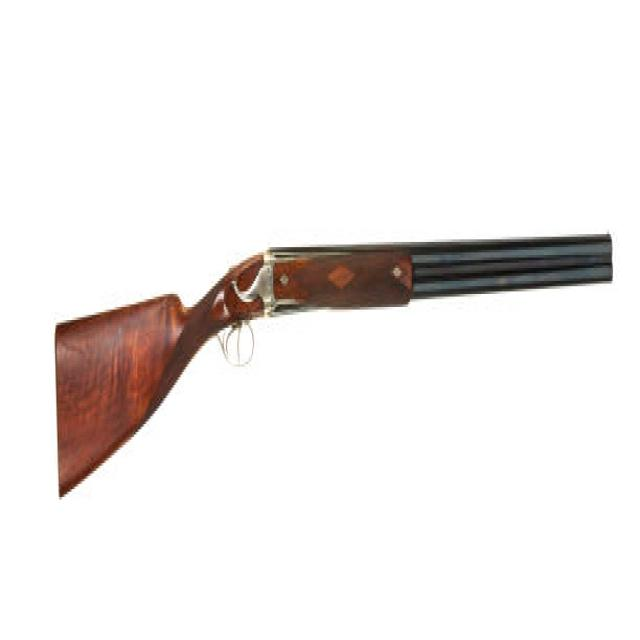rifle: (52, 206, 616, 510)
